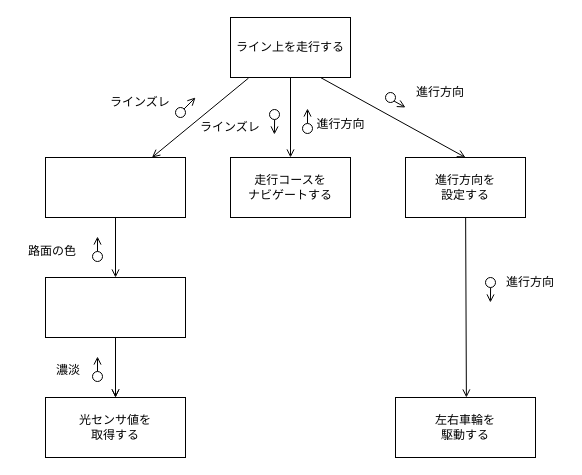
Image size: 582x475. Some labels were removed from this diagram. Here are the shapes that lost their labels. From the top down, the centre of each, then its label:
At point (115, 187): "ラインズレを検知する".
At point (115, 307): "路面の色を 判定する".
